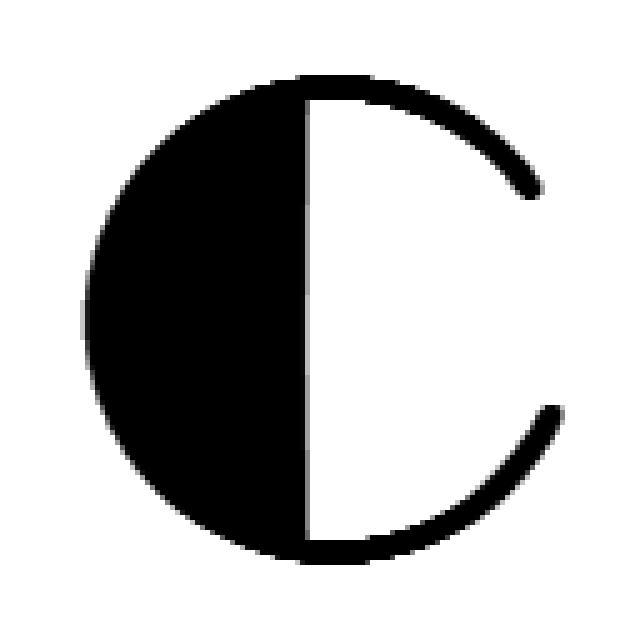C: (85, 75, 565, 565)
